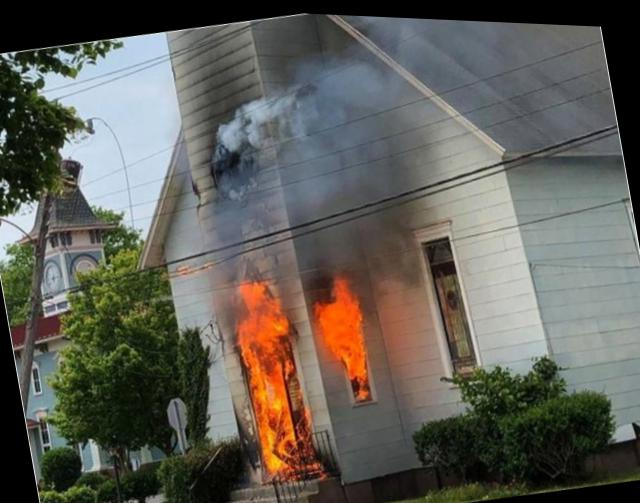fire: (224, 259, 318, 485), (308, 265, 380, 407)
